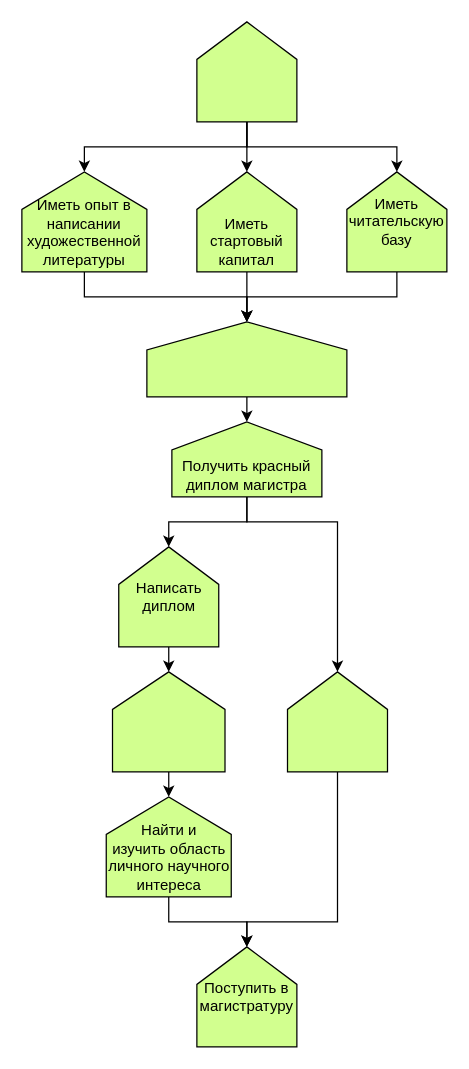
Image size: 469x1069. Some labels were removed from this diagram. Here are the shapes that lost their labels. From the top down, the box of each, then its label:
(196, 21, 297, 122): Написать книгу, не связанную с профессией
(146, 321, 347, 397): Стать компетентным специалистом в крупной компании
(111, 671, 225, 772): Создать что-то новое в изученной области знаний
(286, 671, 388, 772): Изучить сторонние области знаний
